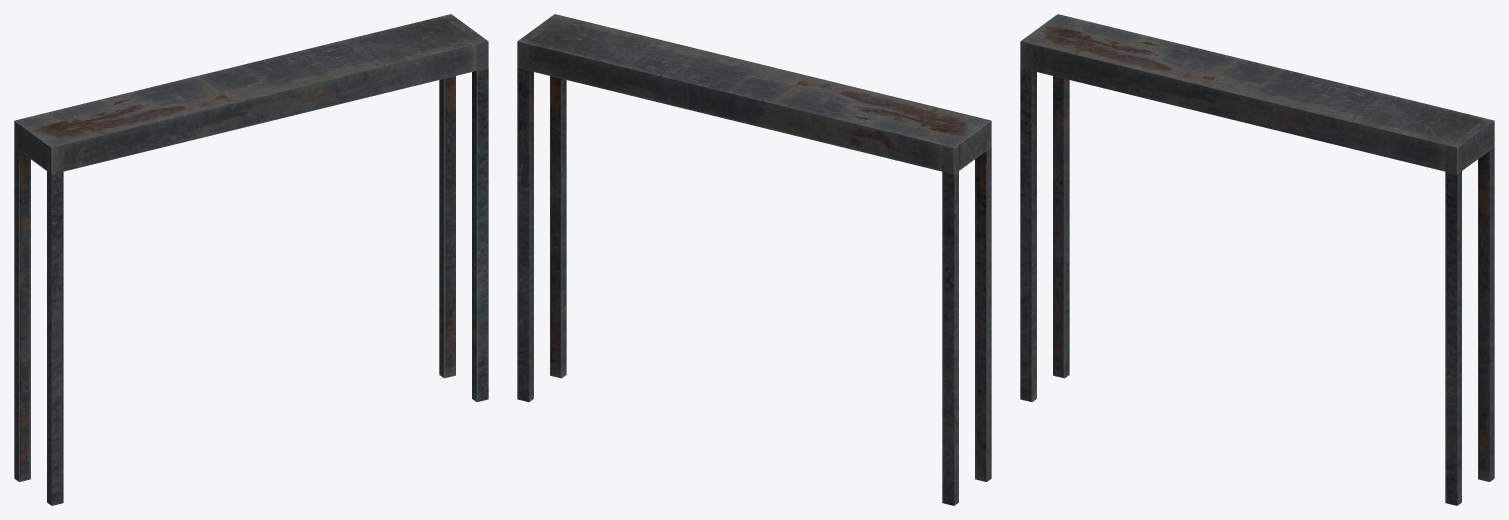
Rendered from CabinetFrame.FBX.
3 views of the same model, side by side, from view 1: azimuth 30°, elevation 25°; view 2: azimuth 150°, elevation 25°; view 3: azimuth 330°, elevation 25° (orthographic).
Parts seen in each view (by area): view 1: CabinetFrame; view 2: CabinetFrame; view 3: CabinetFrame.
Boxes of the visible parts, x1,y1,x2,y2 form: CabinetFrame: (14,14,488,505); CabinetFrame: (517,14,991,505); CabinetFrame: (1020,14,1494,505).
Size of the model in its own units: 290 by 227 by 42.99.
